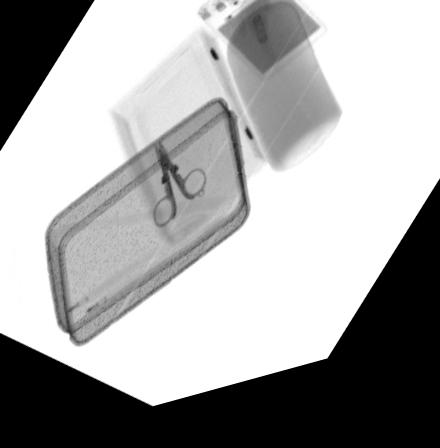Powerbank: (197, 0, 329, 97)
Scissors: (149, 143, 206, 237)
